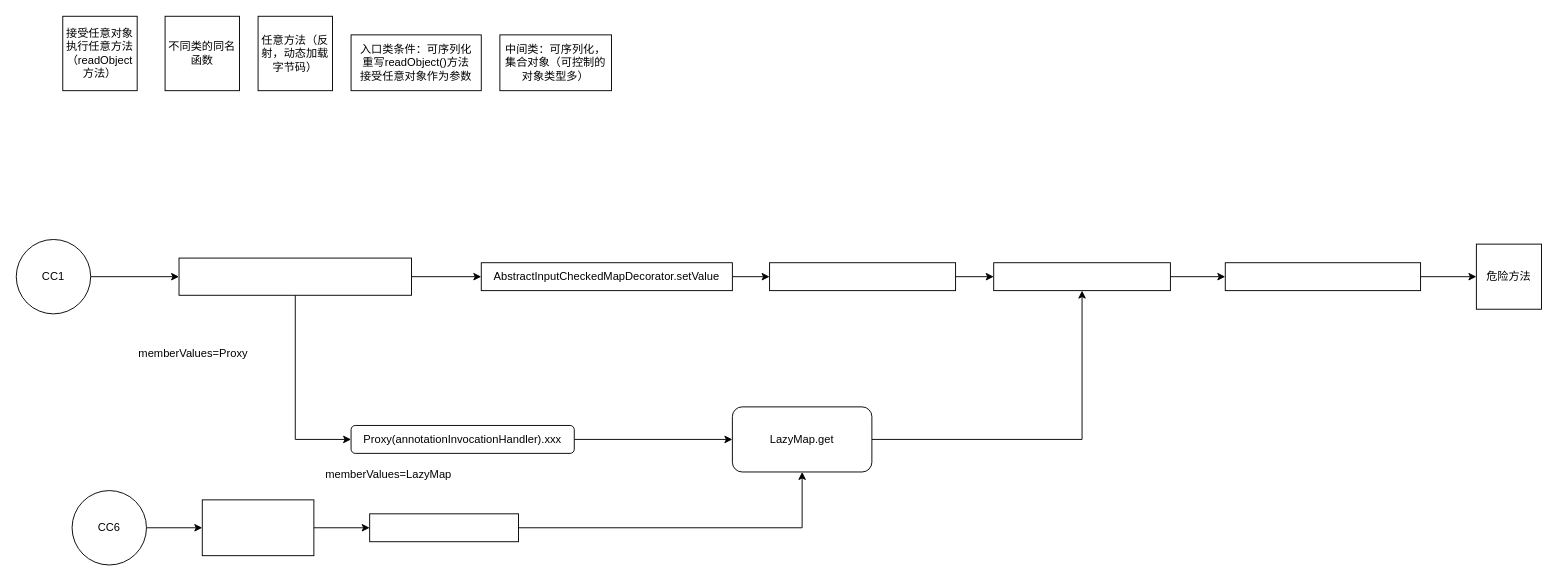
The diagram is 1558 pixels wide and 581 high, and some of its shapes have lost their labels. Here are the shapes that lost their labels. From the top down, the centre of each, then its label:
the point at 295,276: 入口类： AnnotationInvocationHandler.readObject()
the point at 862,276: TransformedMap.checkSetValue()
the point at 1081,276: ChainedTransformer.transform
the point at 1322,276: InvokerTransformer.transform()
the point at 257,527: HashMap.readObject
the point at 443,527: TiedMapEntry.hashCode()
